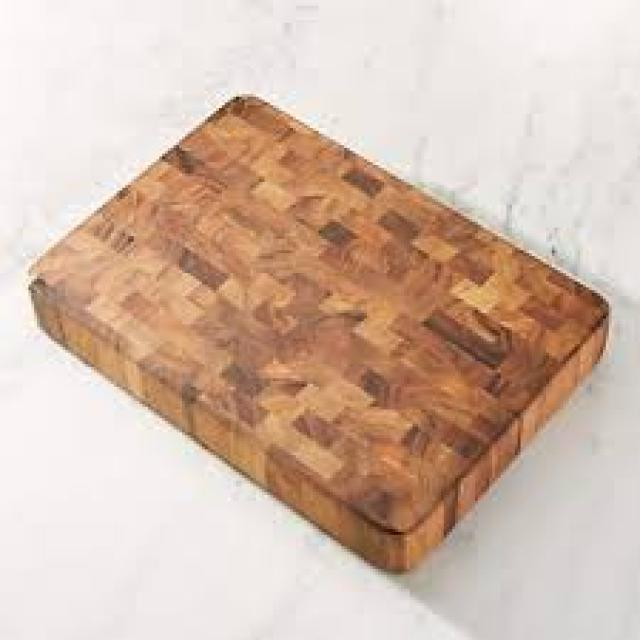Woods: (31, 97, 612, 577)
